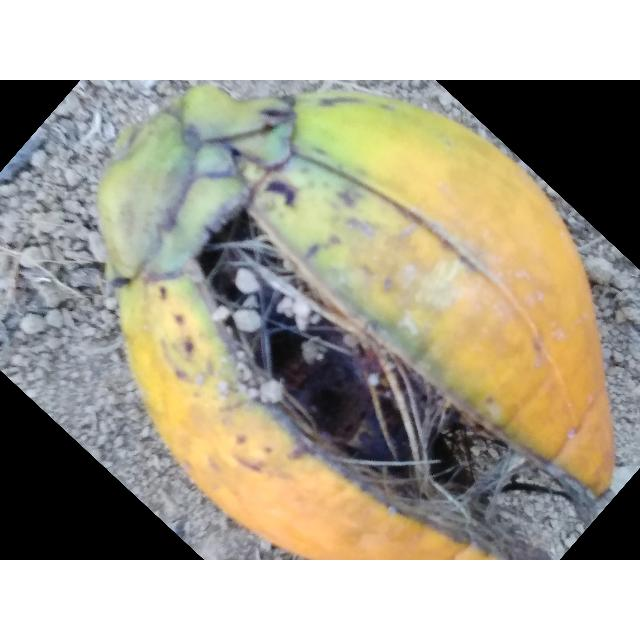damaged: (97, 86, 615, 560)
